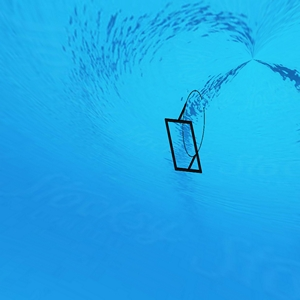circle: (164, 89, 207, 177)
